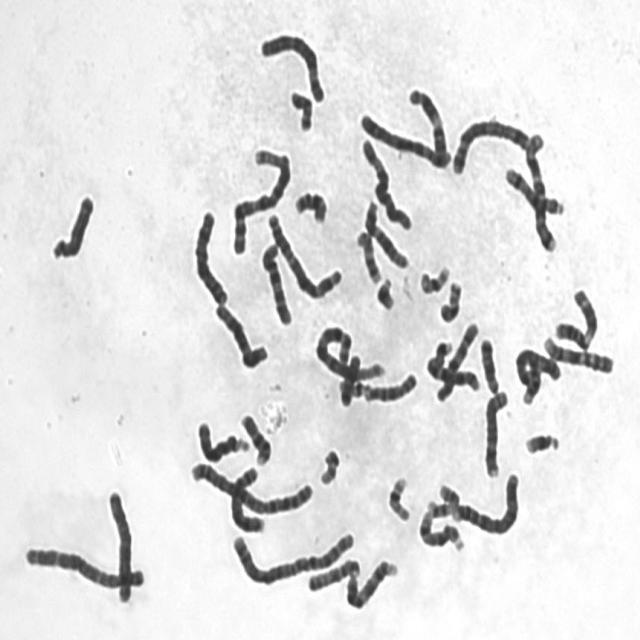A1: (228, 144, 294, 256), (312, 320, 388, 384)
A2: (227, 524, 359, 587), (185, 455, 315, 518)
A3: (263, 208, 344, 302), (19, 537, 144, 593)
B4: (447, 467, 522, 537), (513, 347, 562, 407)
B5: (447, 112, 536, 177), (360, 112, 452, 171)
C10: (432, 315, 481, 406), (256, 237, 294, 329)
C11: (404, 81, 451, 170), (550, 282, 600, 351)
C12: (210, 298, 270, 372), (361, 195, 411, 271)
C6: (256, 26, 328, 106), (357, 132, 414, 233)
C7: (520, 128, 558, 255), (422, 337, 482, 394)
C8: (226, 459, 267, 534), (480, 384, 510, 480)
C9: (539, 329, 616, 376), (341, 554, 400, 612)
D13: (46, 187, 96, 263), (197, 421, 250, 465)
D14: (500, 160, 567, 219), (415, 506, 466, 554)
D15: (304, 553, 364, 594), (355, 367, 419, 404)
E16: (235, 408, 272, 467), (291, 185, 329, 226)
E17: (352, 224, 383, 286), (428, 482, 462, 519)
E18: (476, 333, 502, 396), (340, 353, 362, 406)
F19: (383, 471, 412, 524), (415, 260, 452, 296)
F20: (286, 86, 314, 134), (436, 276, 464, 324)
G21: (520, 425, 562, 458), (372, 272, 397, 313)
G22: (315, 443, 342, 488), (336, 379, 364, 399)
X: (188, 204, 230, 308), (102, 484, 134, 606)
